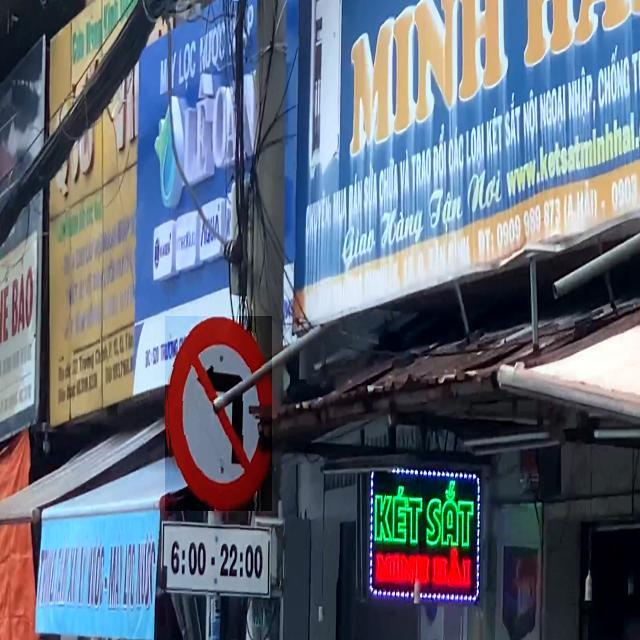P-123a: (165, 316, 272, 511)
